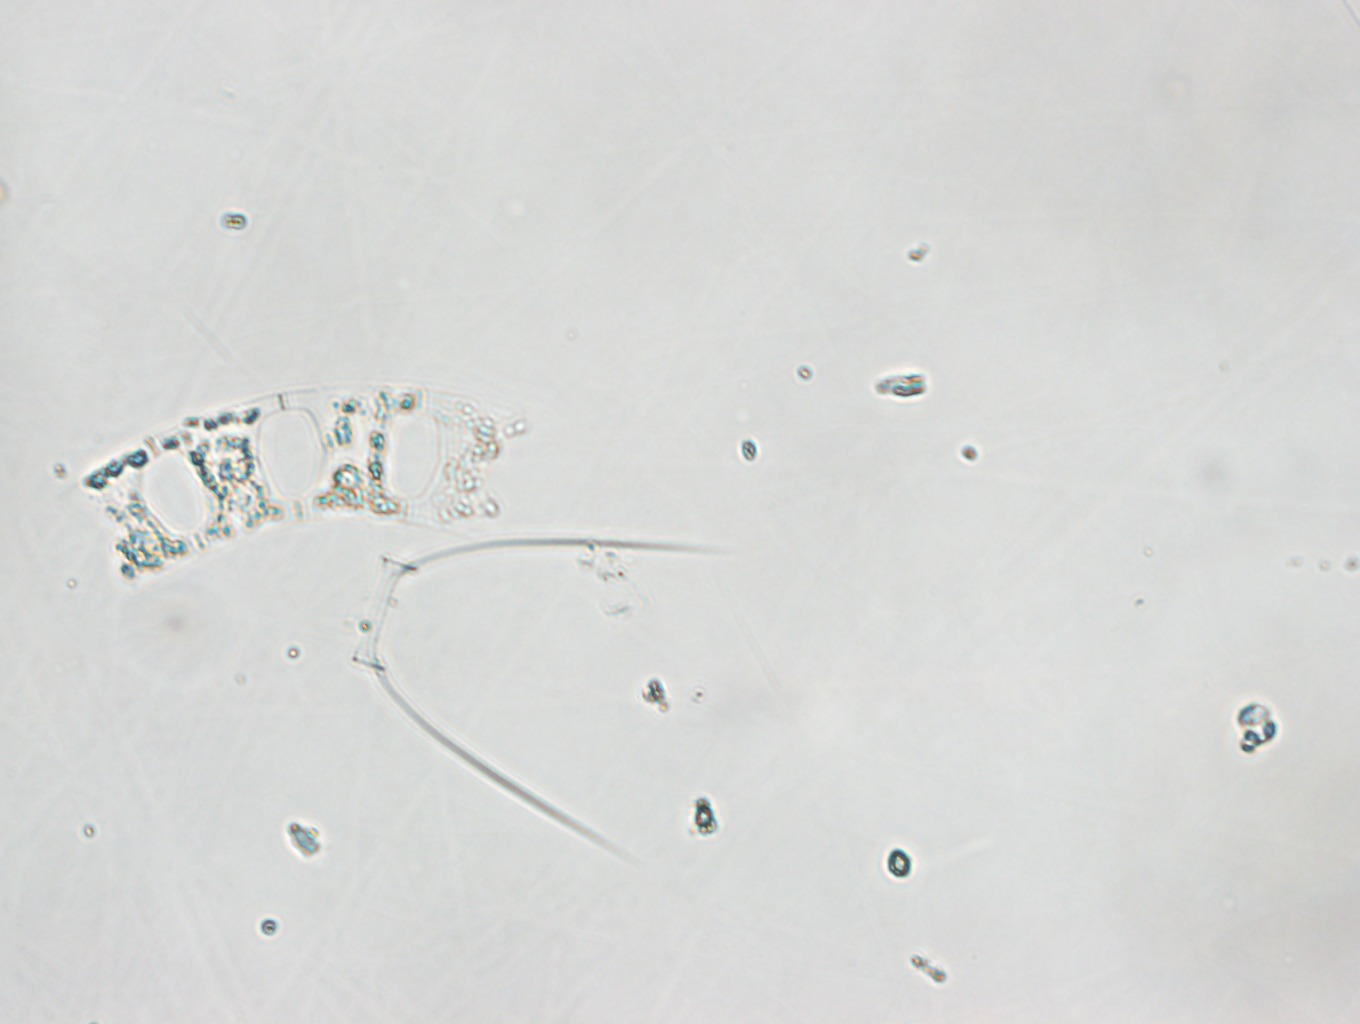eucampia: (68, 388, 530, 575)
